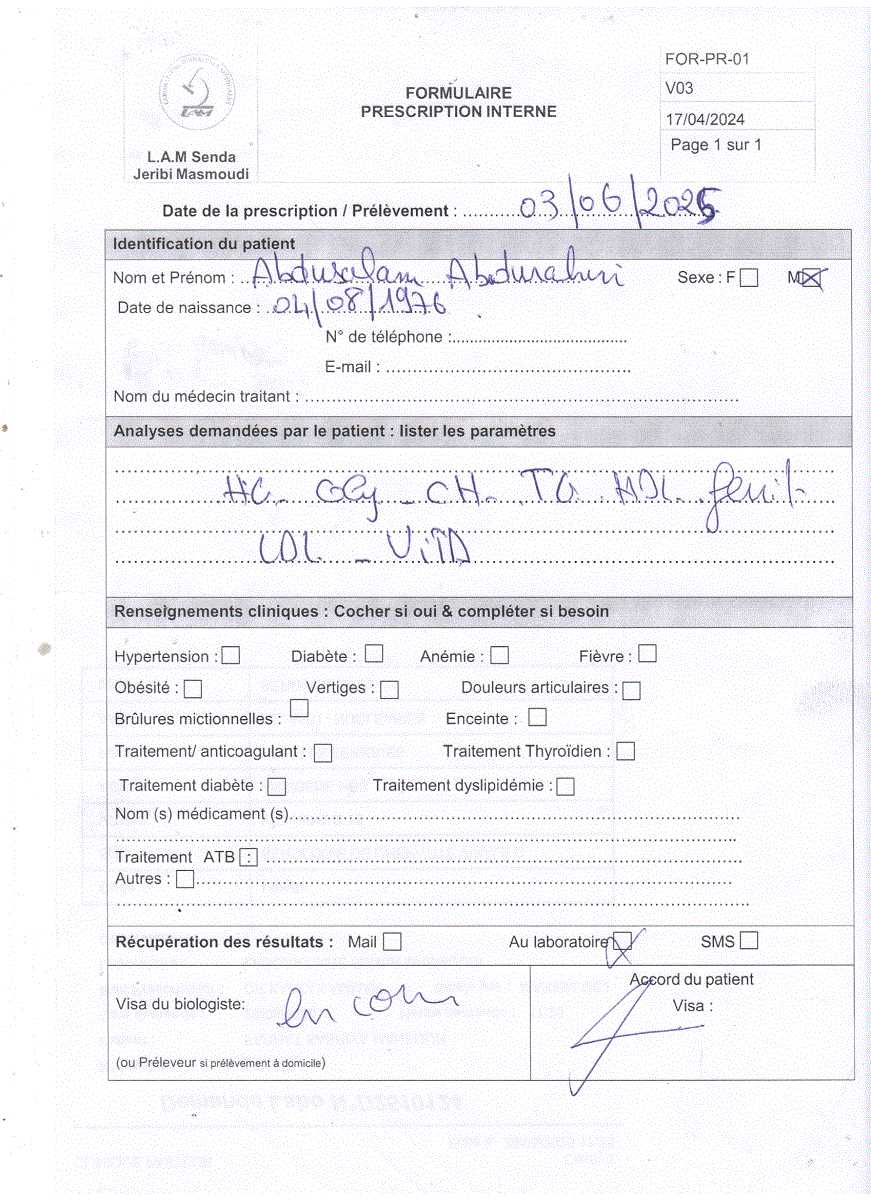zone_analyses: (111, 418, 815, 578)
zone_date: (500, 173, 721, 212)
zone_patient: (104, 231, 835, 363)
